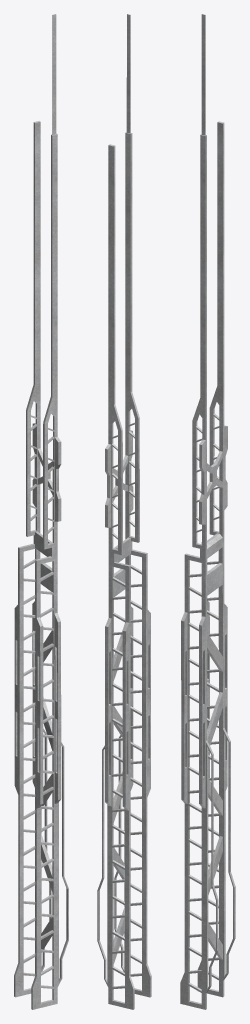
Rendered from KB3D_NEC_BldgLG_C_AntennaB.glb.
3 views of the same model, side by side, from view 1: azimuth 30°, elevation 25°; view 2: azimuth 150°, elevation 25°; view 3: azimuth 330°, elevation 25° (orthographic).
Parts seen in each view (by area): view 1: KB3D_NEC_BldgLG_C_AntennaB; view 2: KB3D_NEC_BldgLG_C_AntennaB; view 3: KB3D_NEC_BldgLG_C_AntennaB.
Part boxes in pixels (bbox=[...]): KB3D_NEC_BldgLG_C_AntennaB: bbox=[14, 14, 68, 1009]; KB3D_NEC_BldgLG_C_AntennaB: bbox=[97, 14, 151, 1009]; KB3D_NEC_BldgLG_C_AntennaB: bbox=[180, 14, 235, 1009].
Size of the model in its own units: 0.5296 by 13.77 by 0.6472.
1 material, 1 textured.
